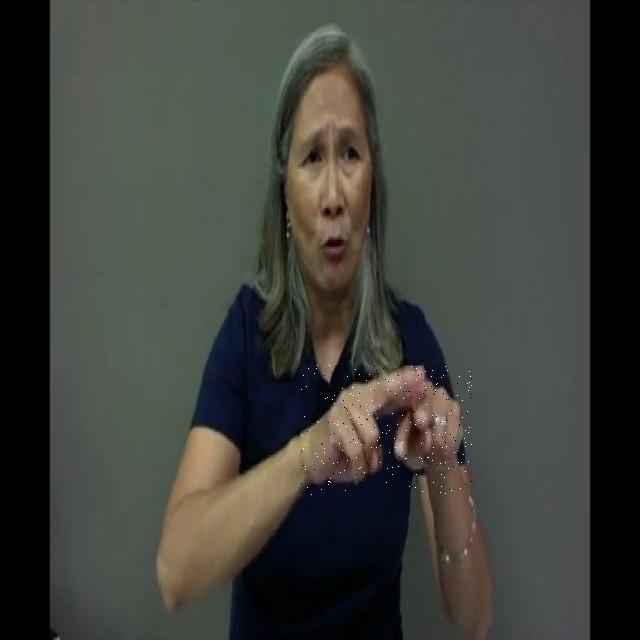salt: (300, 366, 472, 496)
